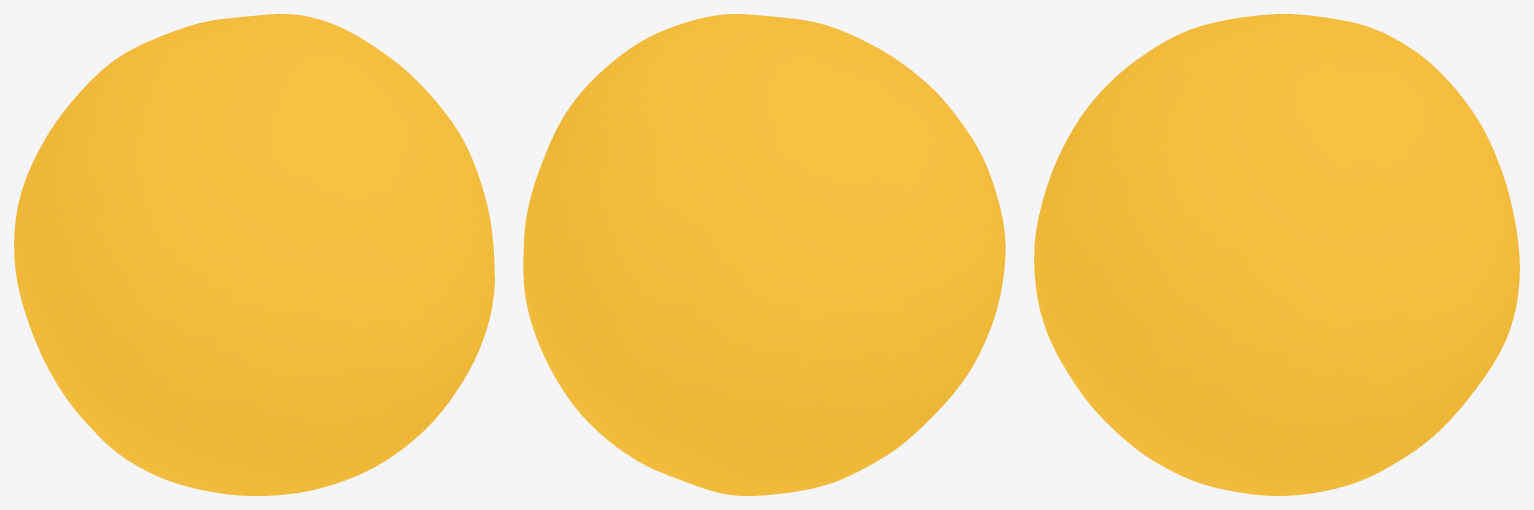
The model's file is sun.glb.
3 renders of one model, left to right at view 1: azimuth 30°, elevation 25°; view 2: azimuth 150°, elevation 25°; view 3: azimuth 270°, elevation 25°, orthographic.
Parts seen in each view (by area): view 1: sun.001; view 2: sun.001; view 3: sun.001.
Boxes of the visible parts, box(x1,y1,x2,y2) form: sun.001: box(14, 14, 494, 495); sun.001: box(523, 14, 1005, 495); sun.001: box(1034, 14, 1519, 495).
Bounding box in the file's own units: 2 × 2 × 2.
